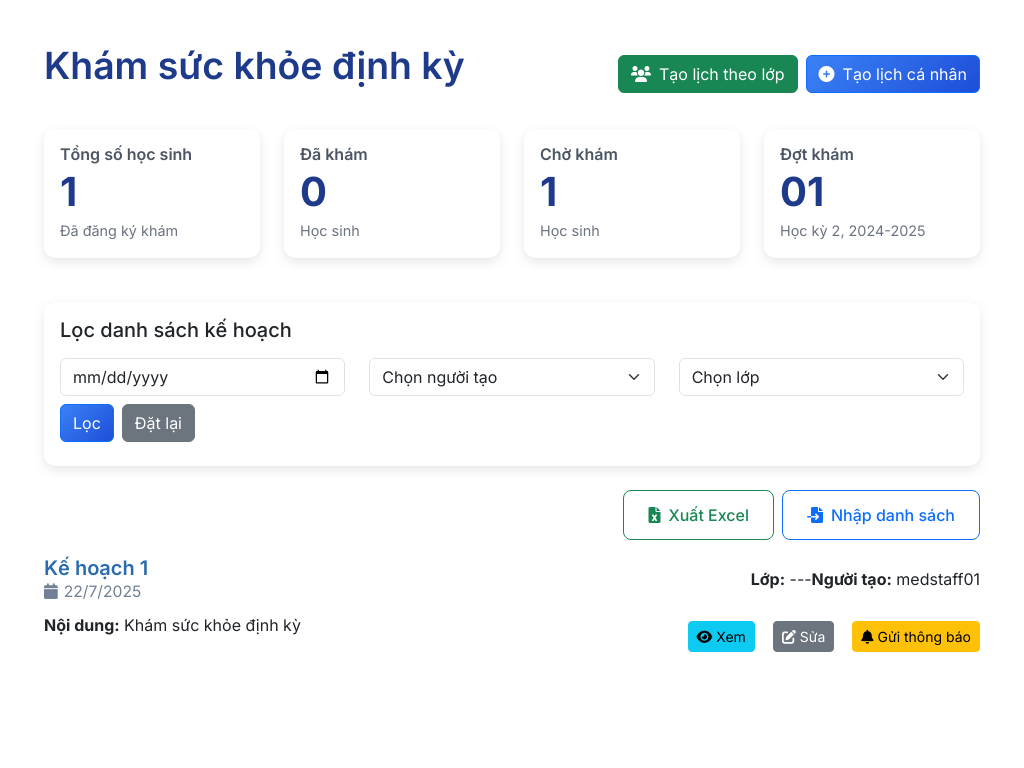
Test case: HealthCheckManagement - Extra Coverage › handleSubmitForm handles API error
Click the button "Tạo lịch cá nhân" at (893,74), box [806,55,980,93]
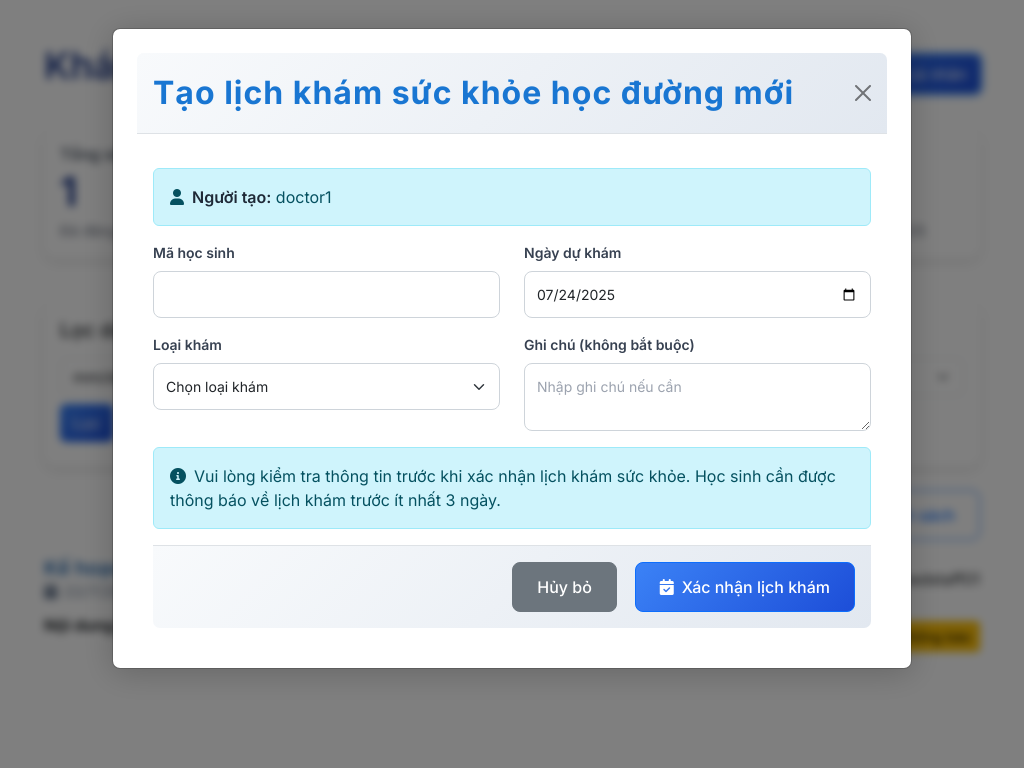
Type "U99999" into the field labelled "Mã học sinh" at (326,294), box [153,271,500,318]
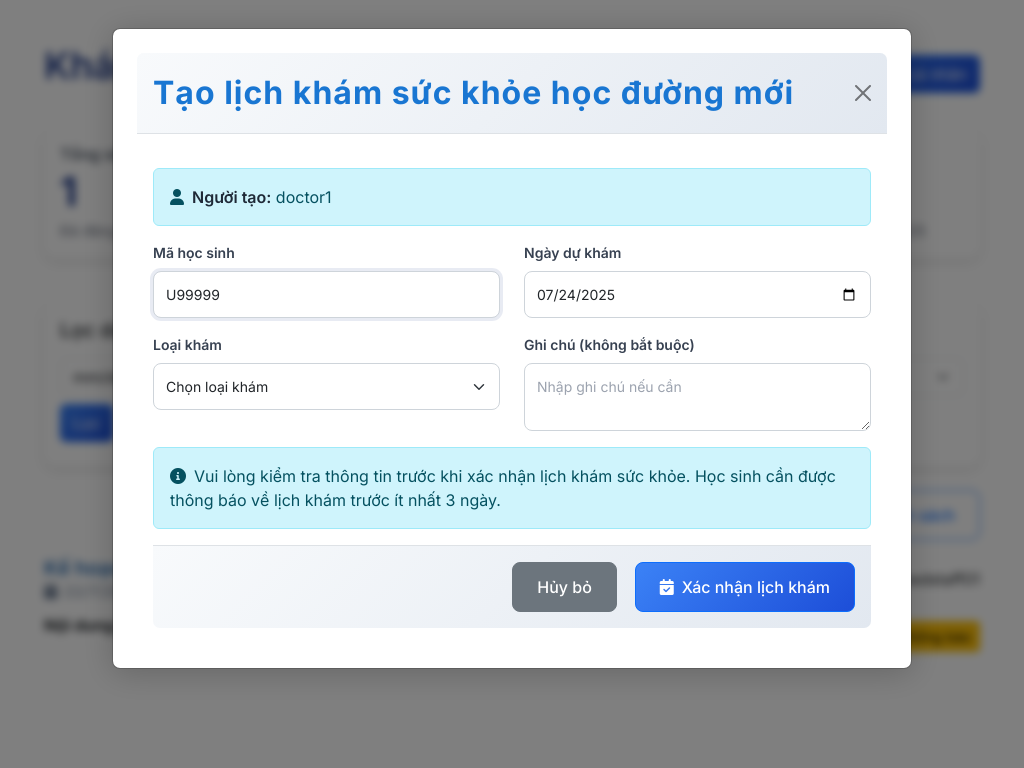
Select "Khám sức khỏe định kỳ" in the dropdown labelled "Loại khám" at (326,386), box [153,363,500,410]
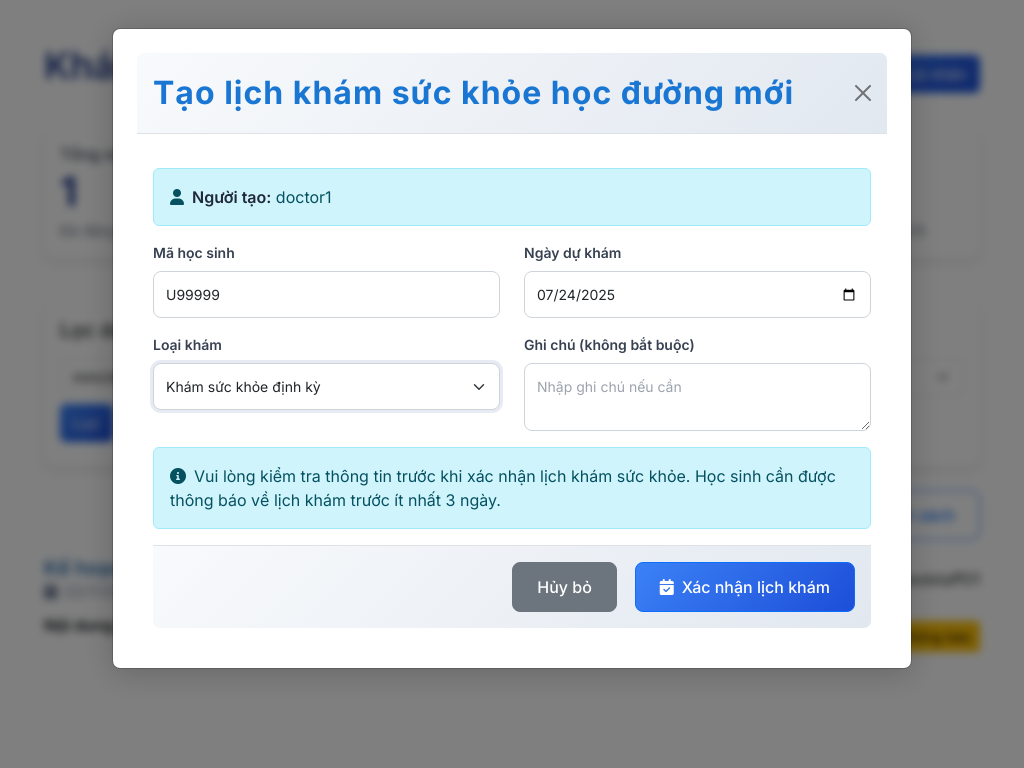
Click the button "Xác nhận lịch khám" at (745,587), box [635,562,855,612]
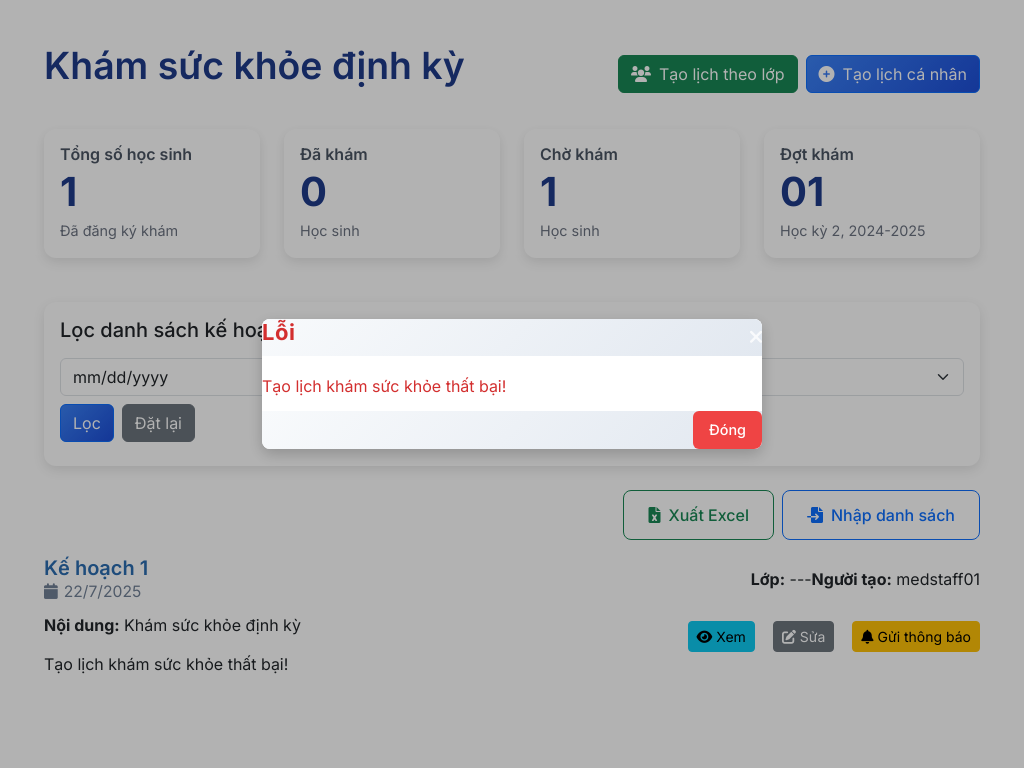
Check: the text with test id "healthcheck-error" is shown, box [44,654,288,674]
